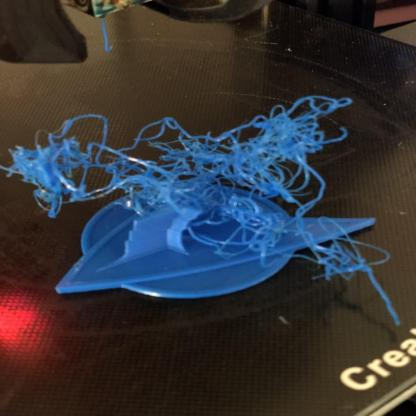fail: (6, 104, 397, 311)
